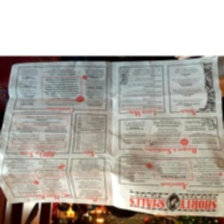news_paper: (0, 56, 223, 217)
